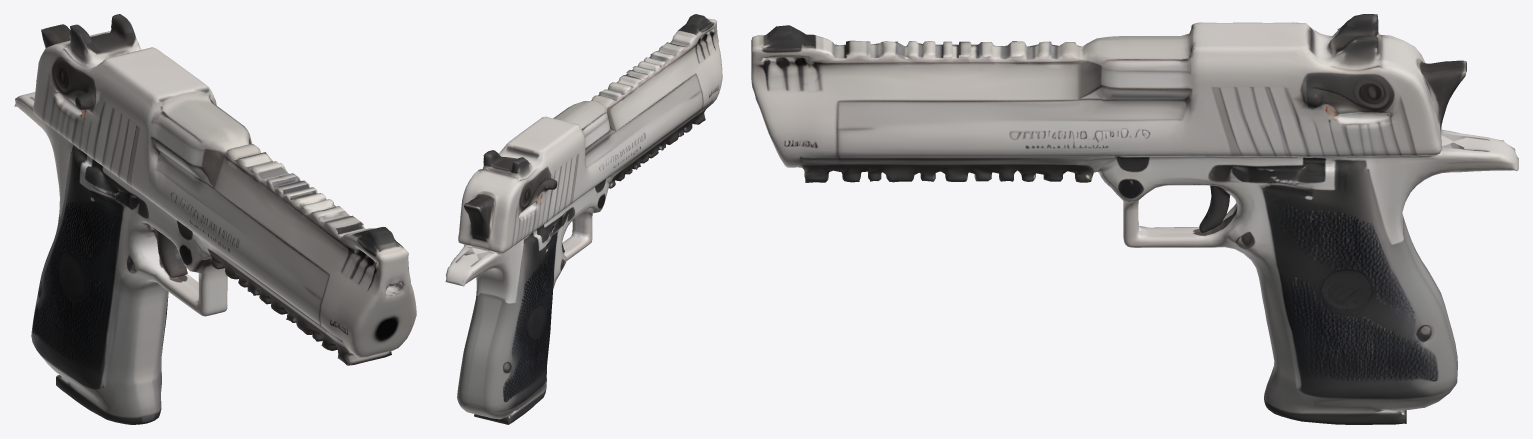
The model's file is desert-eagle_gun.glb.
The picture shows the model from 3 angles, left to right: view 1: azimuth 30°, elevation 25°; view 2: azimuth 150°, elevation 25°; view 3: azimuth 270°, elevation 25°; orthographic projection. The views are drawn at different scales.
Visible parts, largest first — view 1: Object_2; view 2: Object_2; view 3: Object_2.
Boxes of the visible parts, <box> form: Object_2: <box>14,14,416,424</box>; Object_2: <box>445,14,722,424</box>; Object_2: <box>751,14,1518,424</box>.
Size of the model in its own units: 0.2701 by 0.9914 by 1.78.
Materials: 1 (1 with a texture image).
